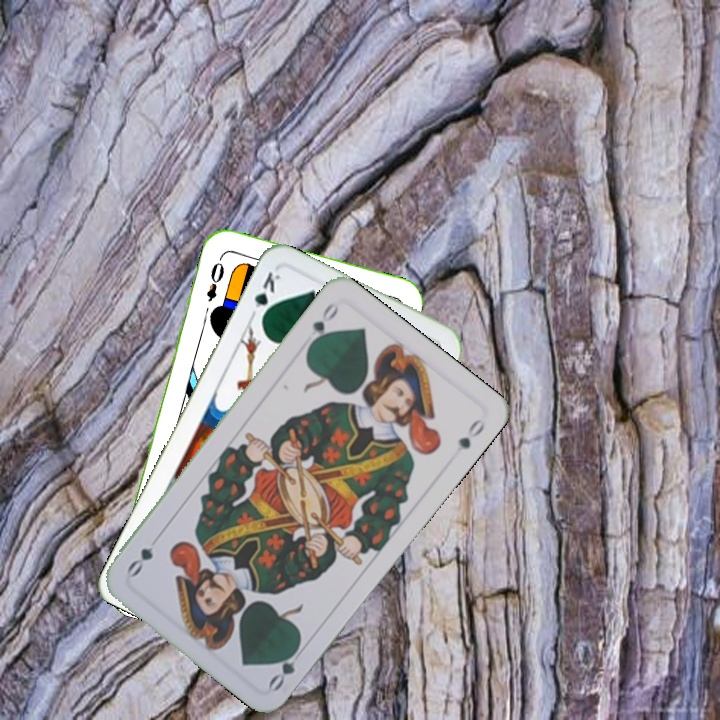EO: (202, 252, 227, 305)
GK: (250, 267, 283, 324)
GO: (264, 639, 309, 694), (304, 298, 342, 351)
